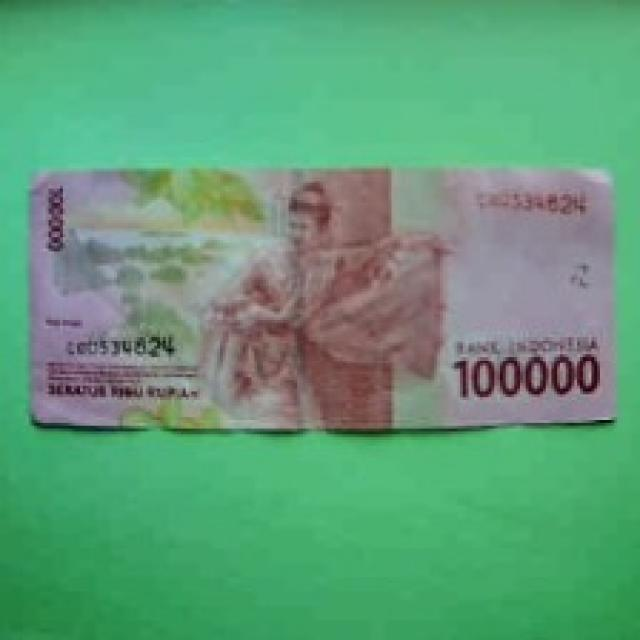lima puluh ribu rupiah: (29, 152, 626, 436)
